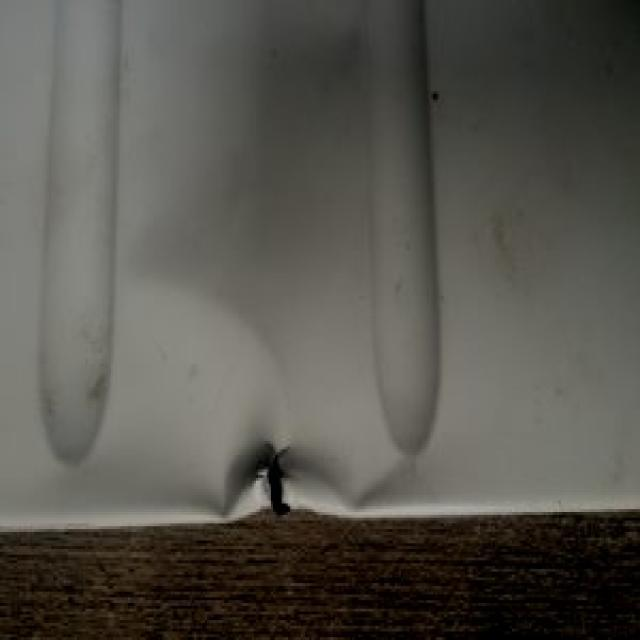crack: (257, 442, 300, 519)
